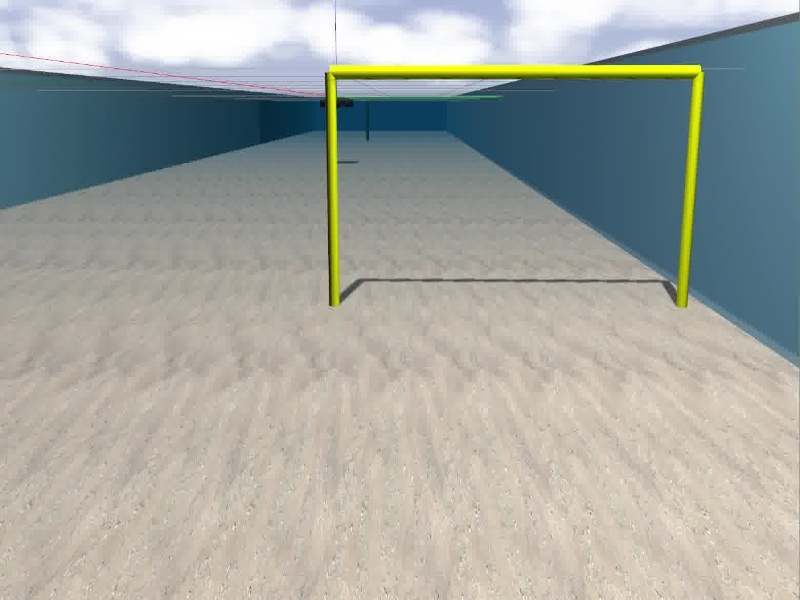gate: (322, 62, 704, 309)
